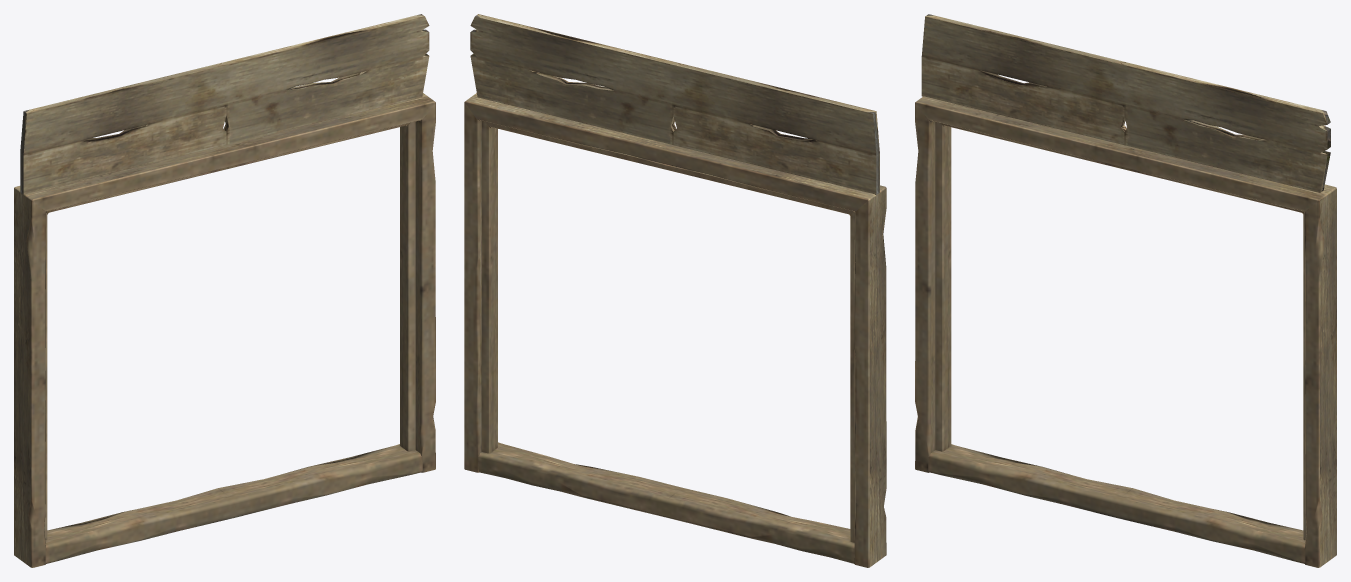
The model's file is wood_double_door.gltf.
The picture shows the model from 3 angles, left to right: view 1: azimuth 30°, elevation 25°; view 2: azimuth 150°, elevation 25°; view 3: azimuth 330°, elevation 25°; orthographic projection.
Parts seen in each view (by area): view 1: Collection.smd; view 2: Collection.smd; view 3: Collection.smd.
Part boxes in pixels (<box>): Collection.smd: <box>14,14,435,567</box>; Collection.smd: <box>464,14,886,567</box>; Collection.smd: <box>915,14,1336,567</box>.
Size of the model in its own units: 2.22 by 2.34 by 0.175.
1 material, 1 textured.
